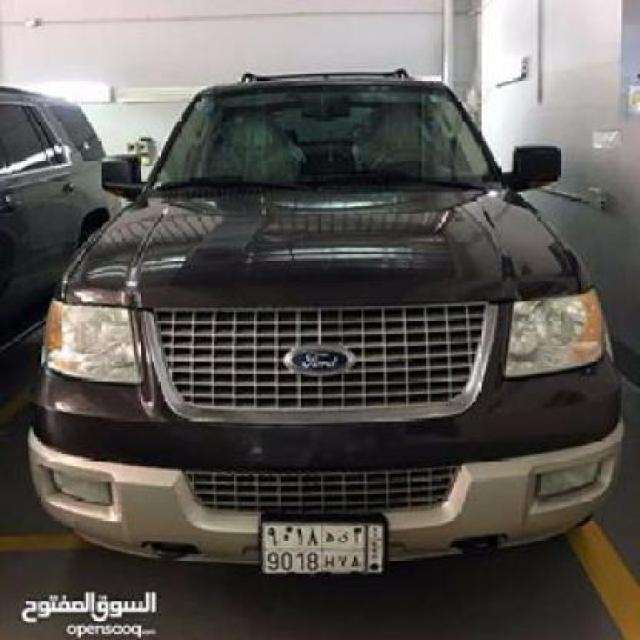license_plate: (257, 516, 388, 576)
